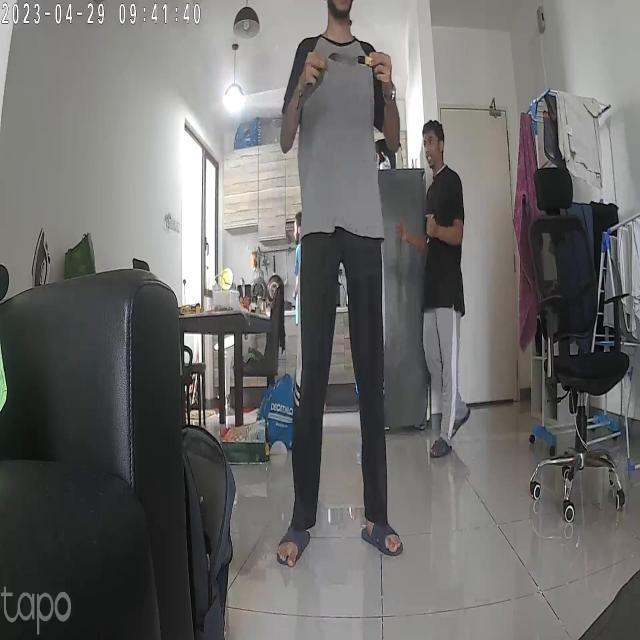Knife: (323, 48, 397, 84)
